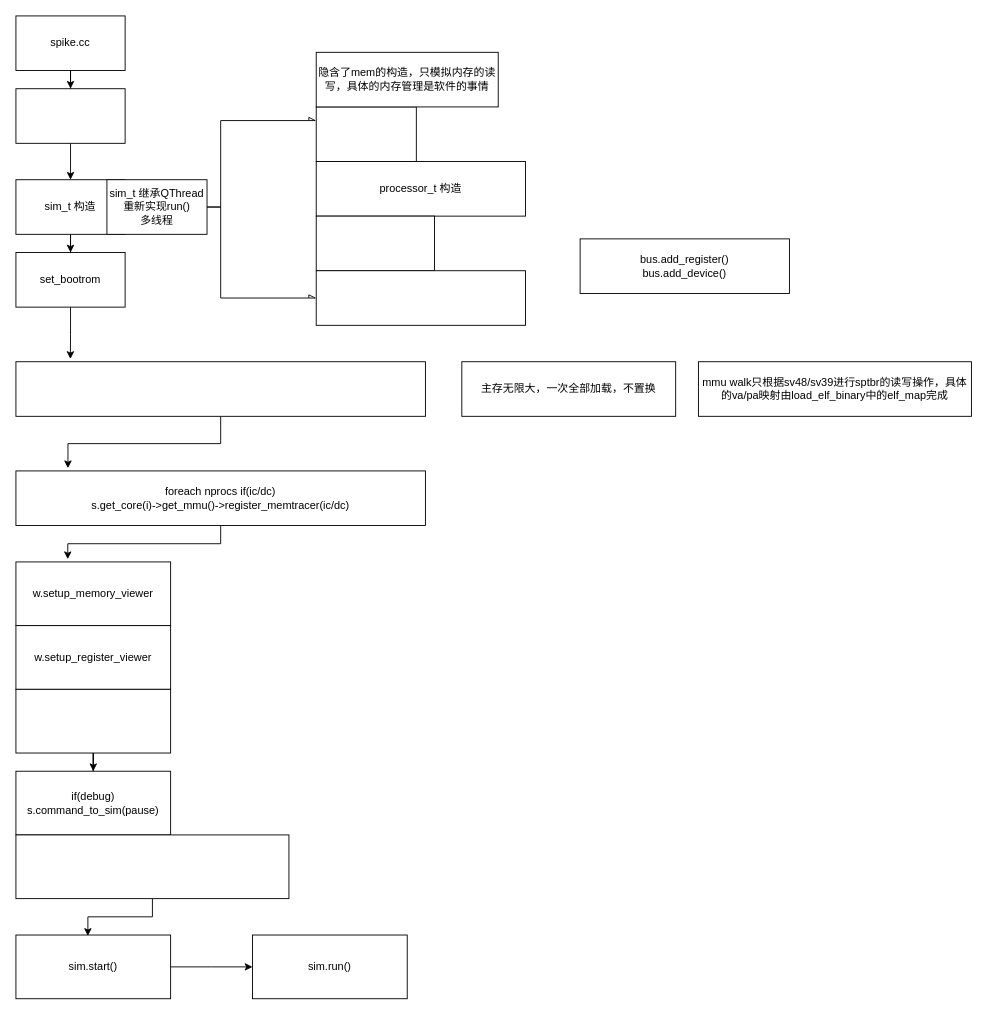
Image size: 987x1015. Some labels were removed from this diagram. The box of each missing label's shape, as (x1, y1, x2, y2) in pixels:
-d -p2: (15, 88, 125, 143)
debug接口的mmu: (315, 106, 416, 162)
load_elf: (15, 361, 425, 416)
make_config_string: (315, 270, 526, 325)
rtc.set_processor(): (315, 215, 435, 271)
w.show(): (15, 688, 171, 753)
事件信号注册QObject::connect(signals,to_window/to_sim): (15, 834, 289, 899)
